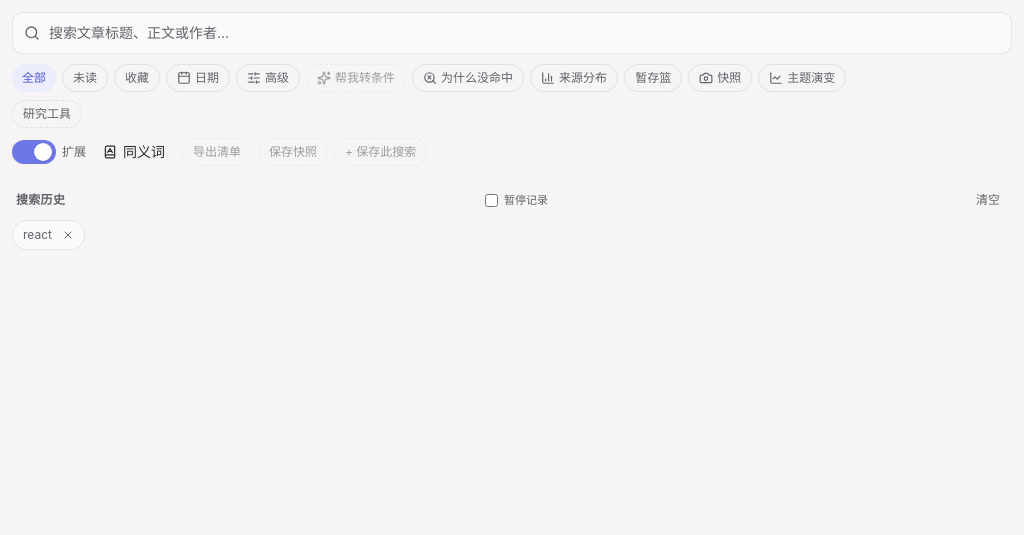
Test case: SearchPage — F29 高级面板 › 空查询 + 仅高级条件：诚实提示「请输入至少一个搜索词」且不发请求
Click the button with test id "advanced-panel-toggle": x=268, y=78 [236,64,300,92]
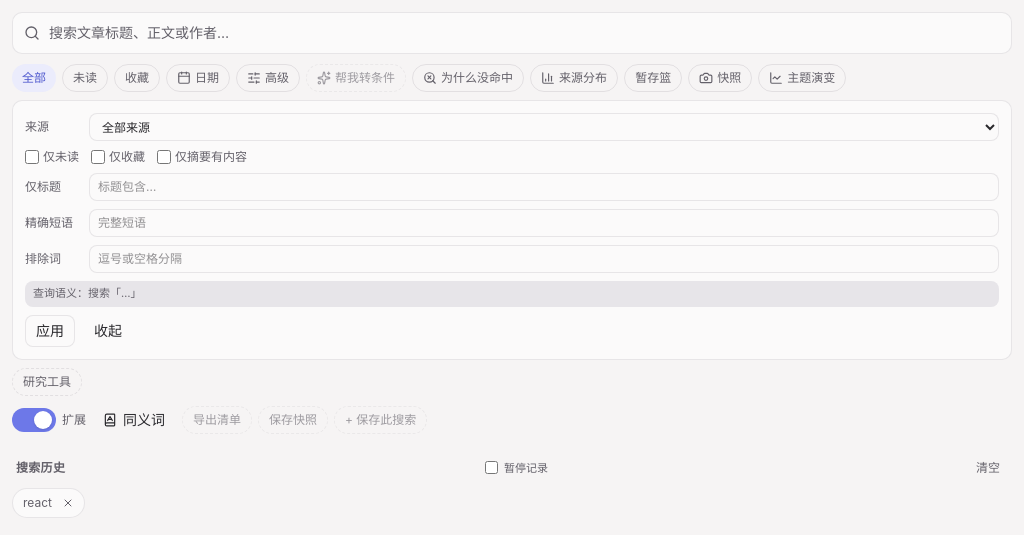
In the field labelled "仅标题": x=544, y=187 [89,173,999,201], type "指南"
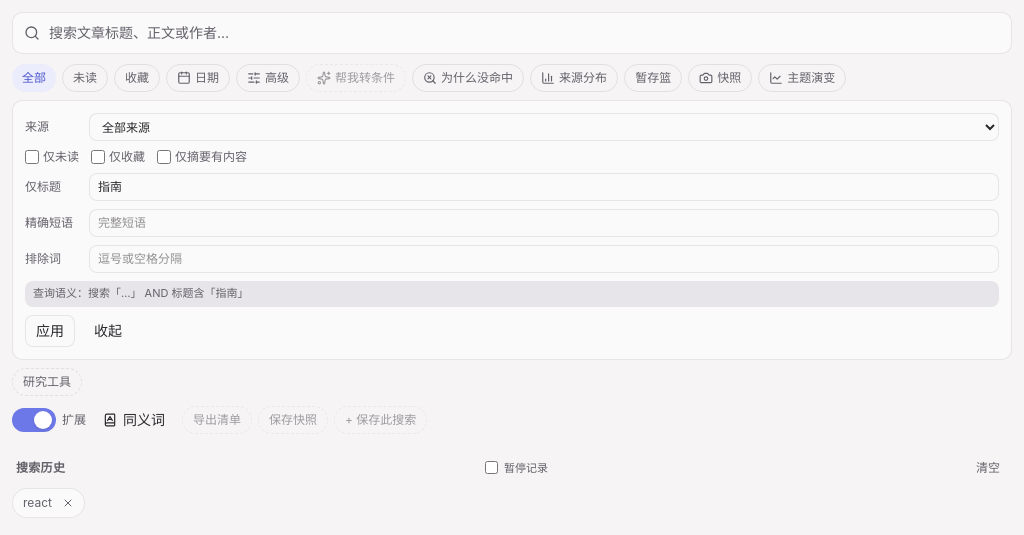
Click the button "应用": x=50, y=331 [25,315,75,347]
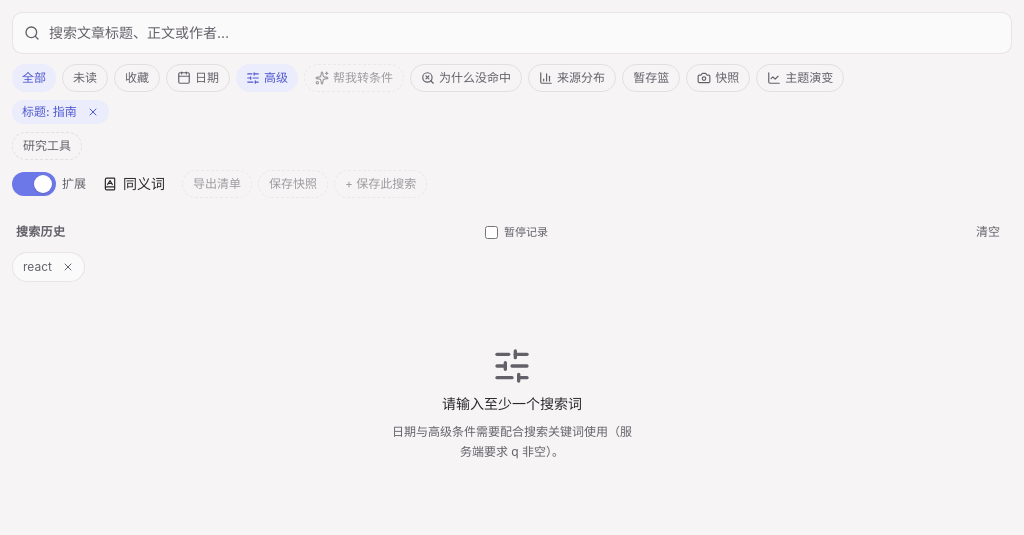
Result: the message with test id "advanced-needs-query" shows "请输入至少一个搜索词" at [442,395,582,412]
